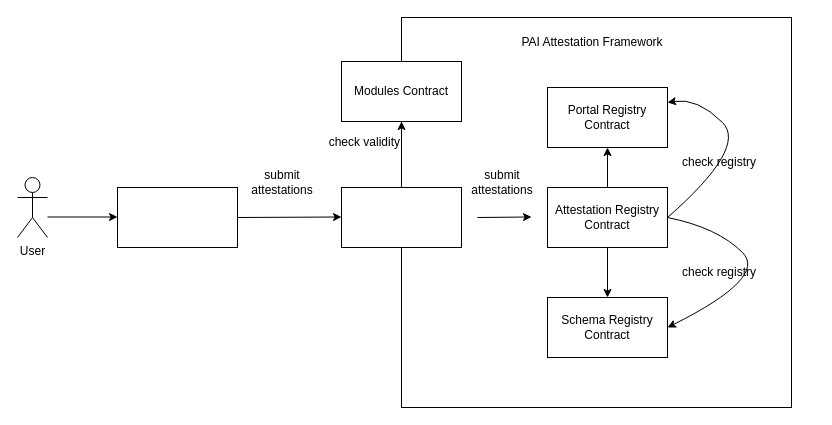
This 832x425 diagram has some shape labels left out. The shapes that lost their labels are listed below. From the top down, each one's centre as x and y in pixels, then its label:
At [177,217]: "dApp".
At [401,217]: "Portal Contract".
